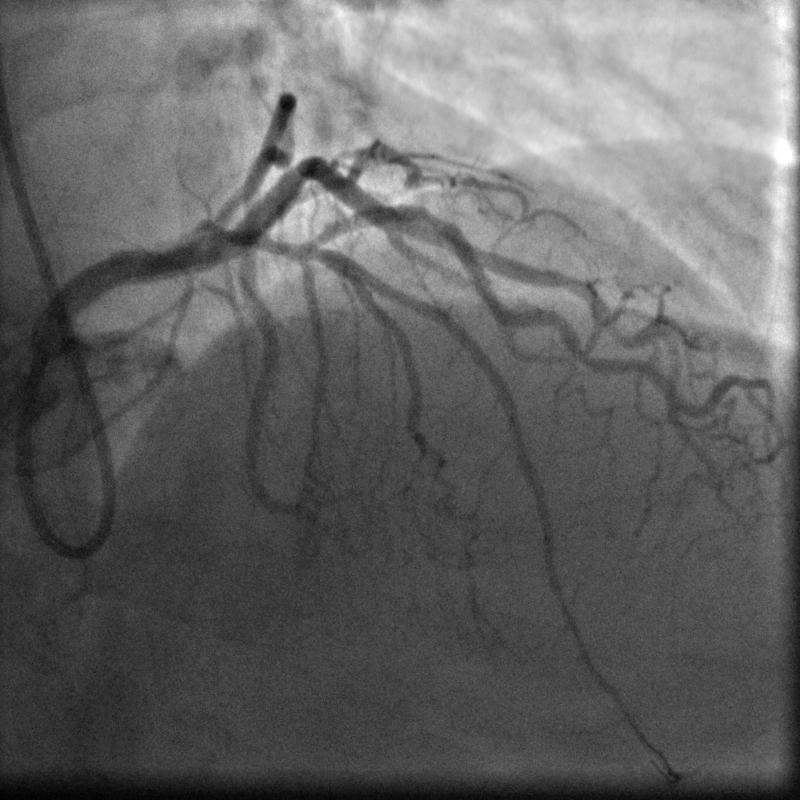Stenosis: (408, 199, 455, 238)
